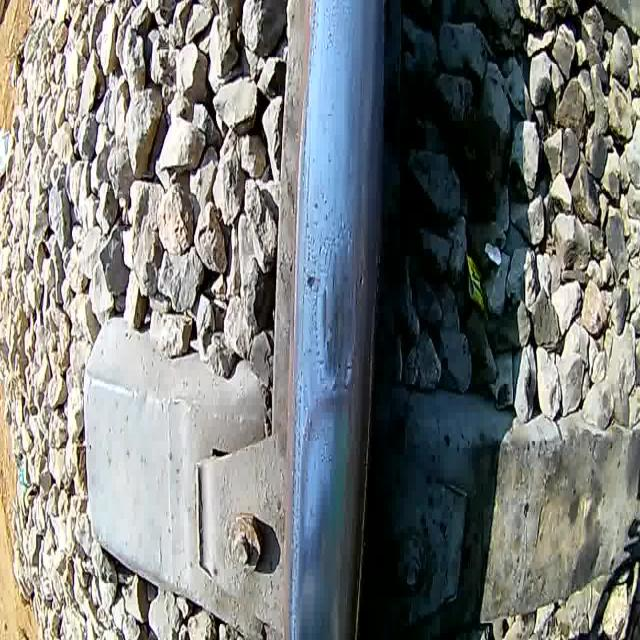Spallings: (303, 267, 317, 299)
Squats: (316, 225, 371, 403)
